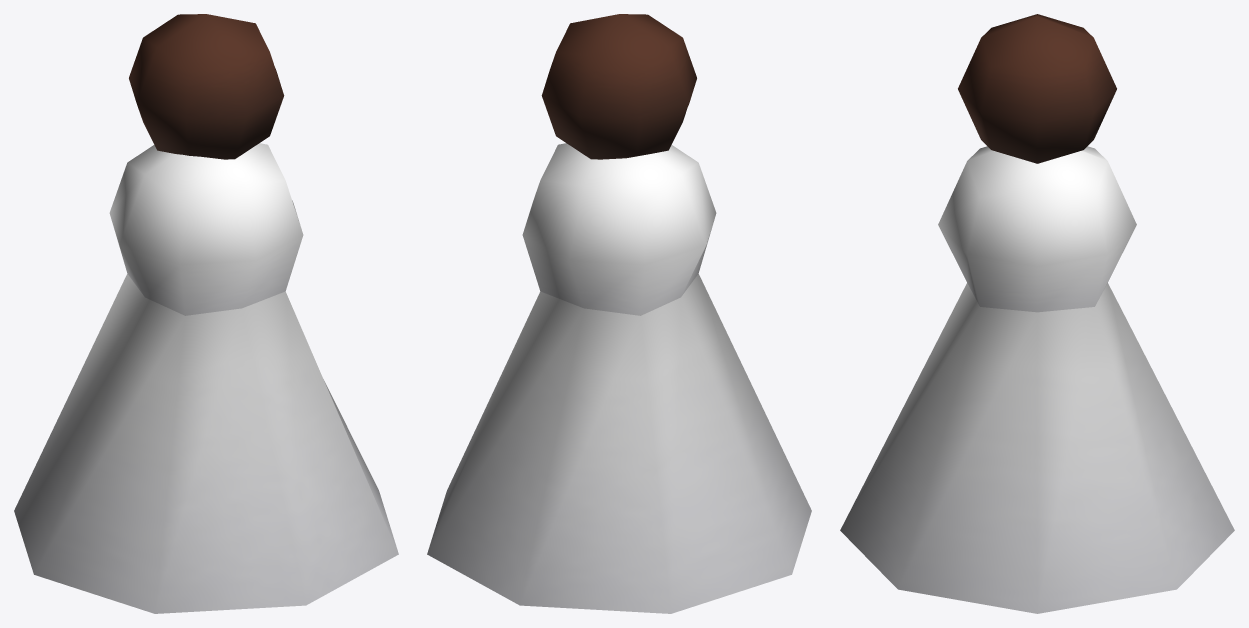
Rendered from m_WeddingcakeTopper06.fbx.
3 views of the same model, side by side, from view 1: azimuth 30°, elevation 25°; view 2: azimuth 150°, elevation 25°; view 3: azimuth 270°, elevation 25° (orthographic).
Visible parts, largest first — view 1: m_WeddingcakeTopper06; view 2: m_WeddingcakeTopper06; view 3: m_WeddingcakeTopper06.
Part boxes in pixels (bbox=[...]): m_WeddingcakeTopper06: bbox=[14, 14, 398, 613]; m_WeddingcakeTopper06: bbox=[427, 14, 811, 613]; m_WeddingcakeTopper06: bbox=[840, 14, 1234, 613].
Bounding box in the file's own units: 6.12 × 8.79 × 6.12.
